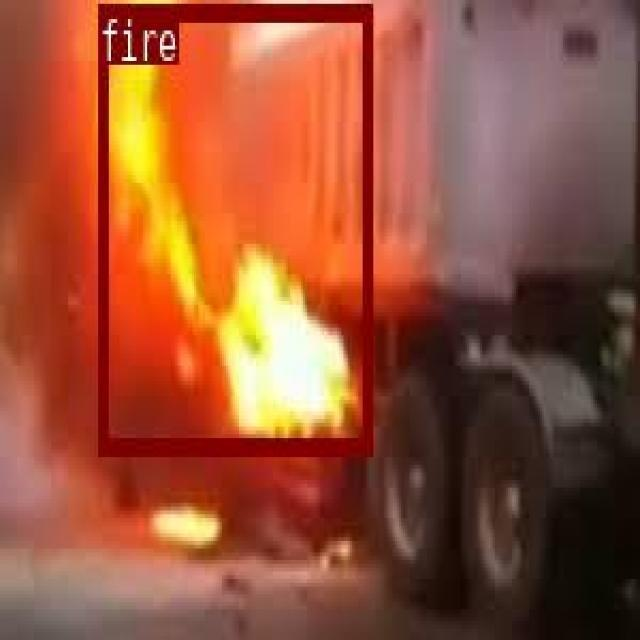fire: (97, 0, 370, 453)
